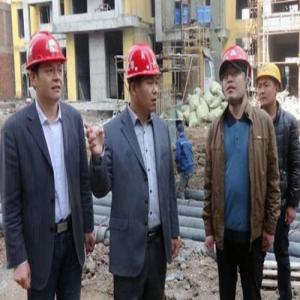red: (27, 30, 68, 104), (125, 45, 163, 117), (221, 45, 253, 108)
yellow: (257, 64, 283, 111)
